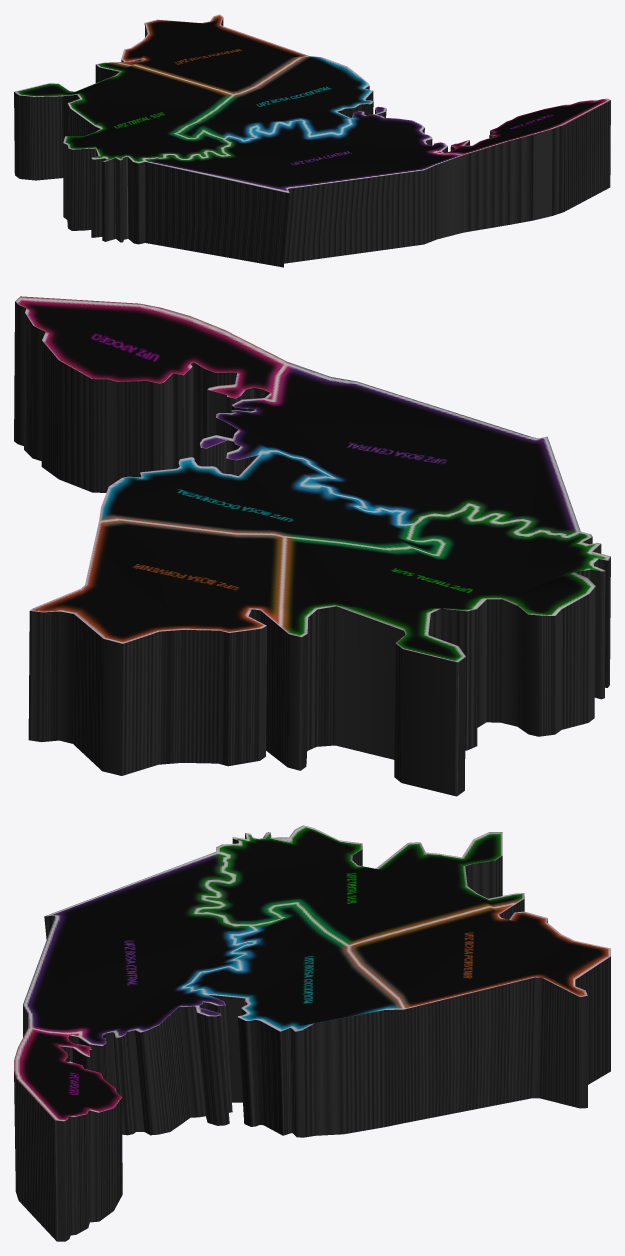
Rendered from mapa.glb.
The picture shows the model from 3 angles, top to bottom: view 1: azimuth 30°, elevation 25°; view 2: azimuth 150°, elevation 25°; view 3: azimuth 270°, elevation 25°; orthographic projection. The views are drawn at different scales.
Visible parts, largest first — view 1: Shape002; view 2: Shape002; view 3: Shape002.
Boxes of the visible parts, <box> form: Shape002: <box>14,14,610,267</box>; Shape002: <box>14,296,610,796</box>; Shape002: <box>14,825,610,1241</box>.
Bounding box in the file's own units: 0.2565 × 0.0482 × 0.2137.
Materials: 1 (1 with a texture image).
